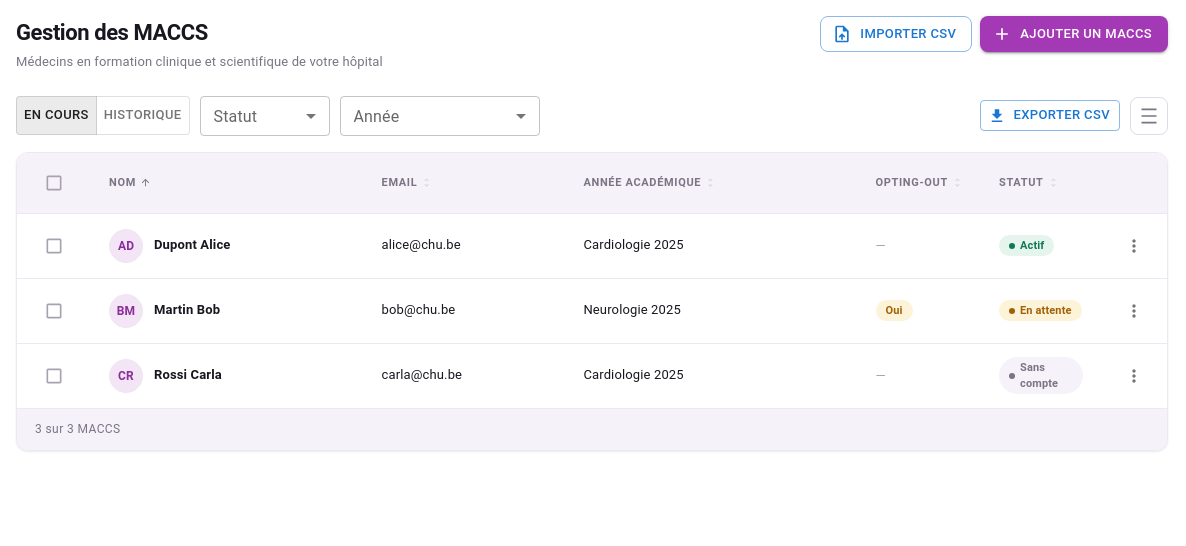
Test: HospitalAdminResidentsPage › filtre par année — affiche uniquement les MACCS de cette année
This screenshot has width=1186, height=546.
Expected: the text "Dupont Alice" is shown, [154,236,230,255]
Press the mouse on the 2nd dropdown: (440, 116) [340,96,540,136]
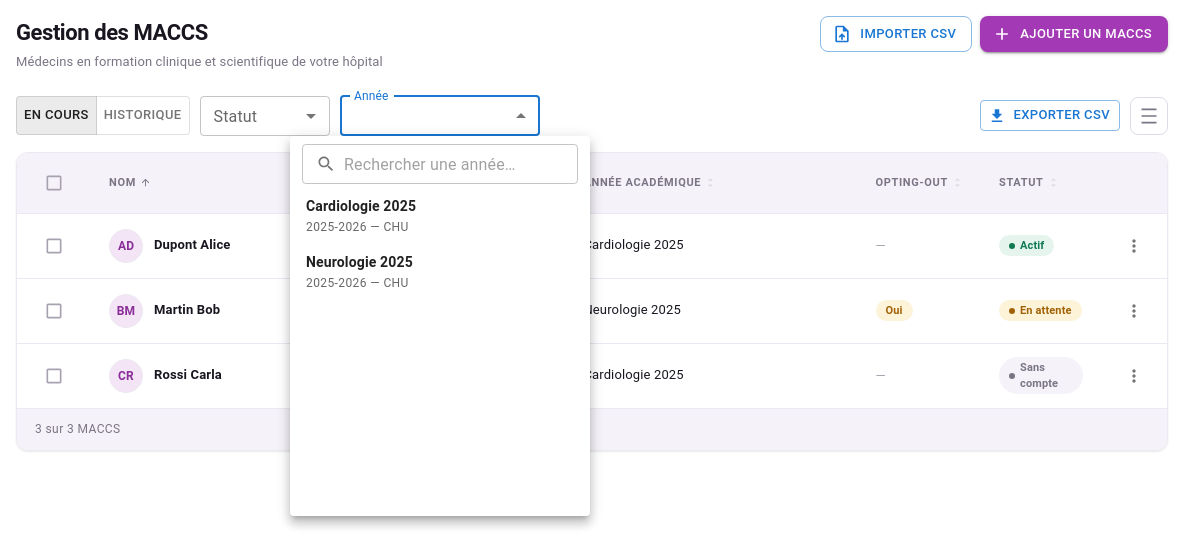
Expected: the option "Neurologie 2025 2025-2026 — CHU" is shown
Click the option "Neurologie 2025 2025-2026 — CHU": (359, 272) [306,254,413,290]
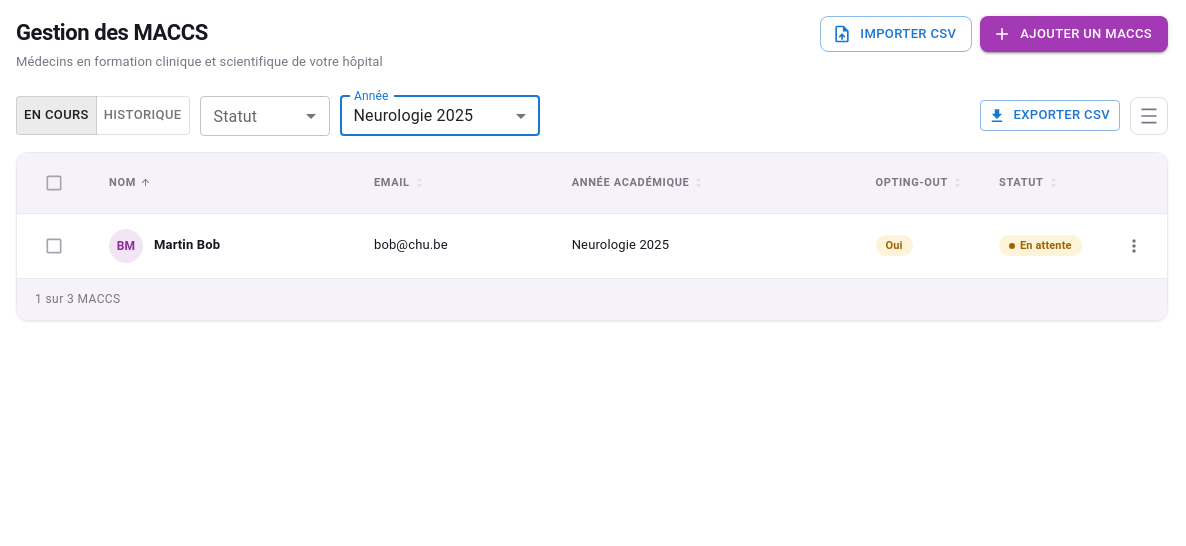
Expected: the text "Martin Bob" is shown, [154,236,220,255]
Expected: the text "Dupont Alice" is gone
Expected: the text "Rossi Carla" is gone
